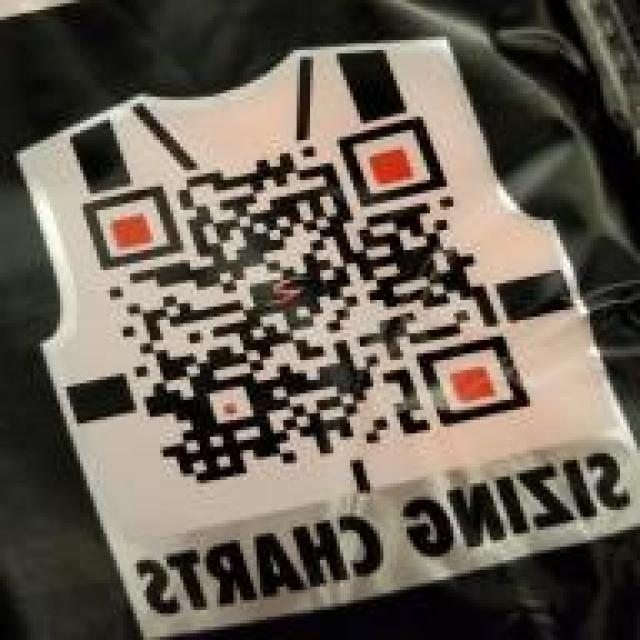qr_code: (82, 117, 530, 486)
